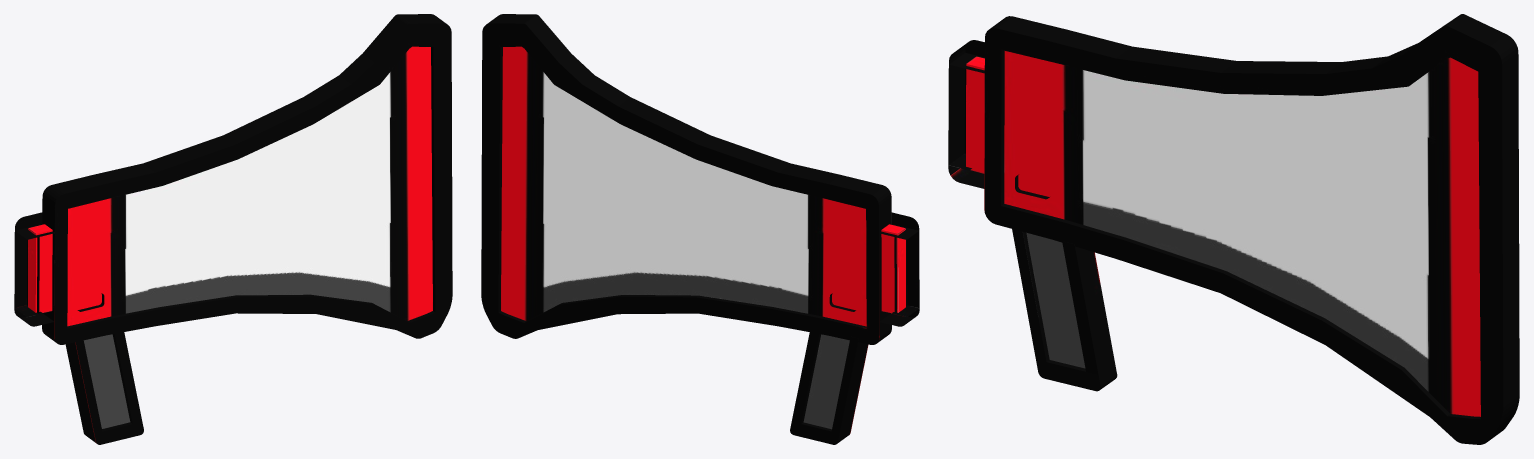
File: Marketing_badge.glb
The picture shows the model from 3 angles, left to right: view 1: azimuth 30°, elevation 25°; view 2: azimuth 150°, elevation 25°; view 3: azimuth 330°, elevation 25°; orthographic projection. The views are drawn at different scales.
Visible parts, largest first — view 1: Marketing Badge; view 2: Marketing Badge; view 3: Marketing Badge.
Part boxes in pixels (left/top/right/bottom): Marketing Badge: left=14, top=14, right=452, bottom=444; Marketing Badge: left=481, top=14, right=919, bottom=444; Marketing Badge: left=948, top=14, right=1519, bottom=444.
Size of the model in its own units: 0.0954 by 0.0741 by 0.00496.
1 material, 1 textured.
